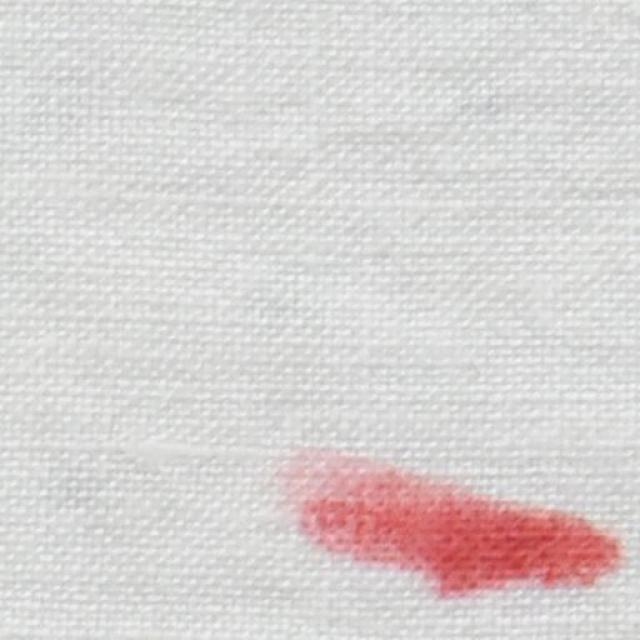Stain: (286, 461, 625, 589)
